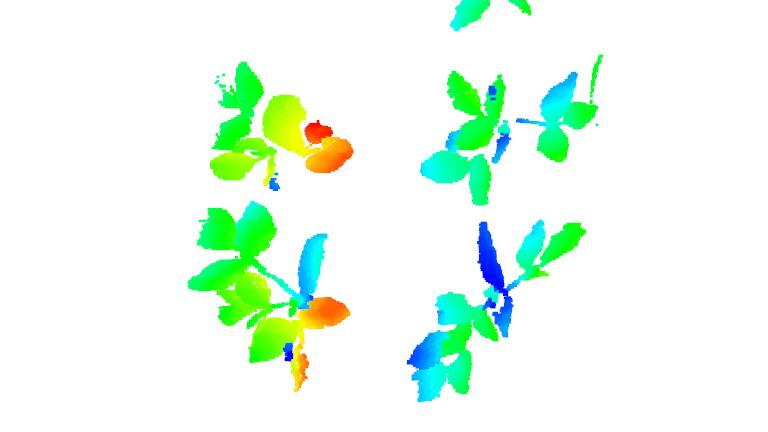mungbean: (405, 213, 592, 406), (181, 198, 352, 392), (418, 62, 606, 209), (207, 58, 357, 194)
